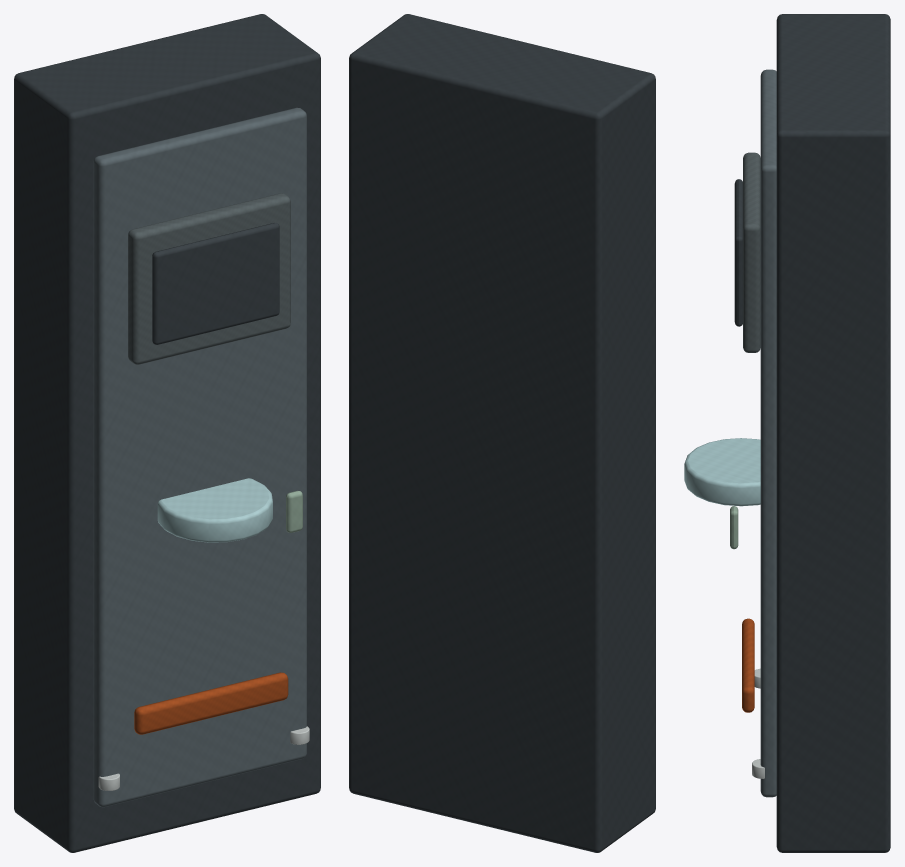
Rendered from BiometricScanner.fbx.
3 views of the same model, side by side, from view 1: azimuth 30°, elevation 25°; view 2: azimuth 150°, elevation 25°; view 3: azimuth 270°, elevation 25° (orthographic). The views are drawn at different scales.
Parts seen in each view (by area): view 1: BiometricScanner_Mesh; view 2: BiometricScanner_Mesh; view 3: BiometricScanner_Mesh.
Part boxes in pixels (x1,y1,x2,y2): BiometricScanner_Mesh: (14, 14, 320, 852); BiometricScanner_Mesh: (349, 14, 655, 852); BiometricScanner_Mesh: (684, 14, 890, 852).
Bounding box in the file's own units: 40 × 112 × 29.
